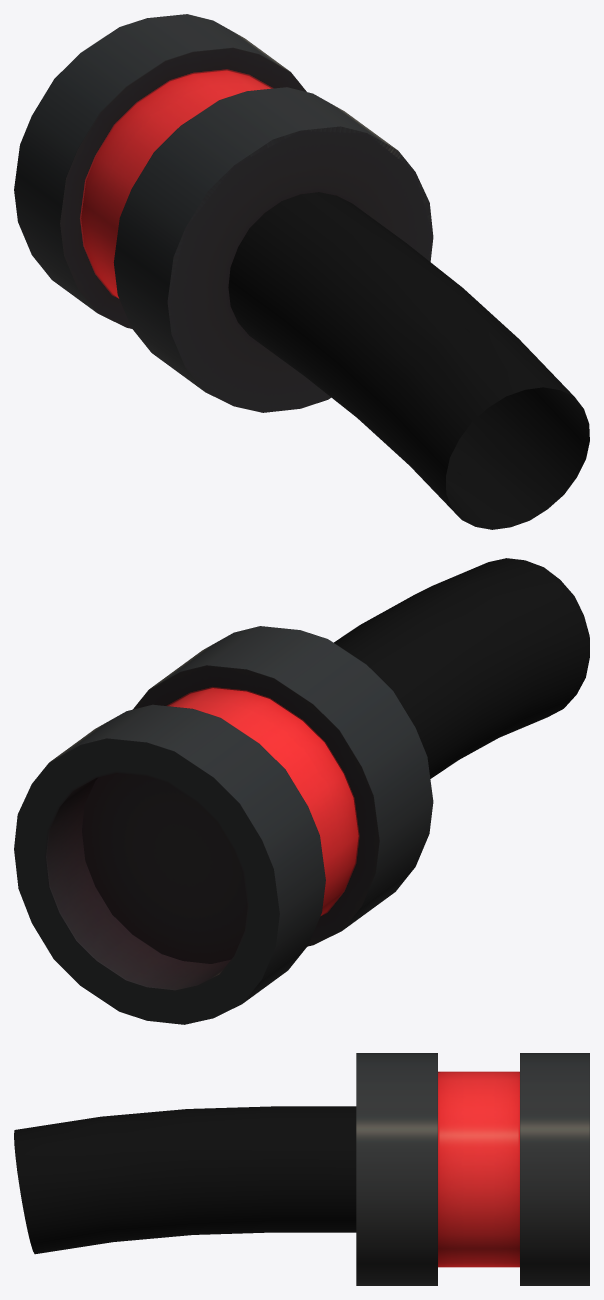
File: hose-short.fbx
3 views of the same model, one above another, from view 1: azimuth 30°, elevation 25°; view 2: azimuth 150°, elevation 25°; view 3: azimuth 270°, elevation 25° (orthographic). The views are drawn at different scales.
Parts seen in each view (by area): view 1: Hose; view 2: Hose; view 3: Hose.
Boxes of the visible parts, left/top/right/bottom form: Hose: left=14, top=14, right=589, bottom=529; Hose: left=14, top=558, right=589, bottom=1024; Hose: left=14, top=1053, right=589, bottom=1285.
Size of the model in its own units: 25.78 by 25.78 by 63.54.
